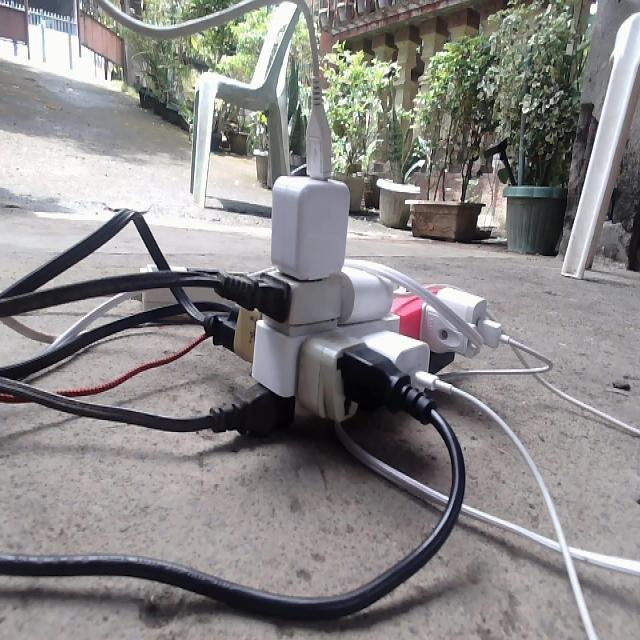-: (213, 138, 501, 442)
